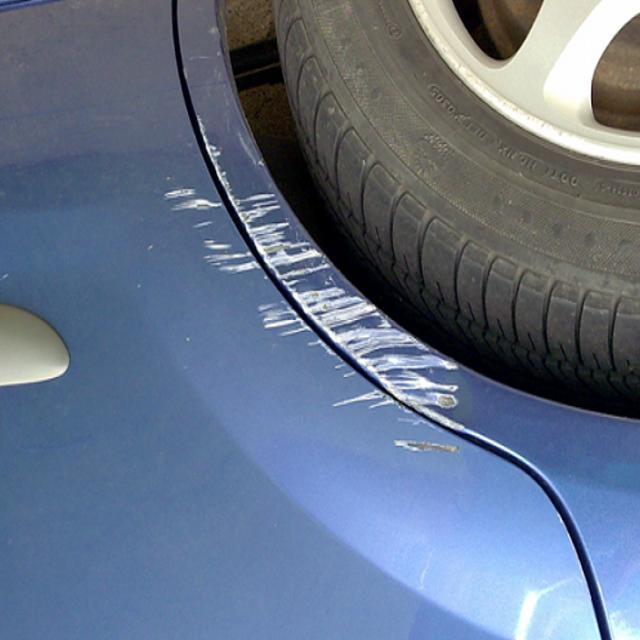scratch: (154, 145, 481, 496)
